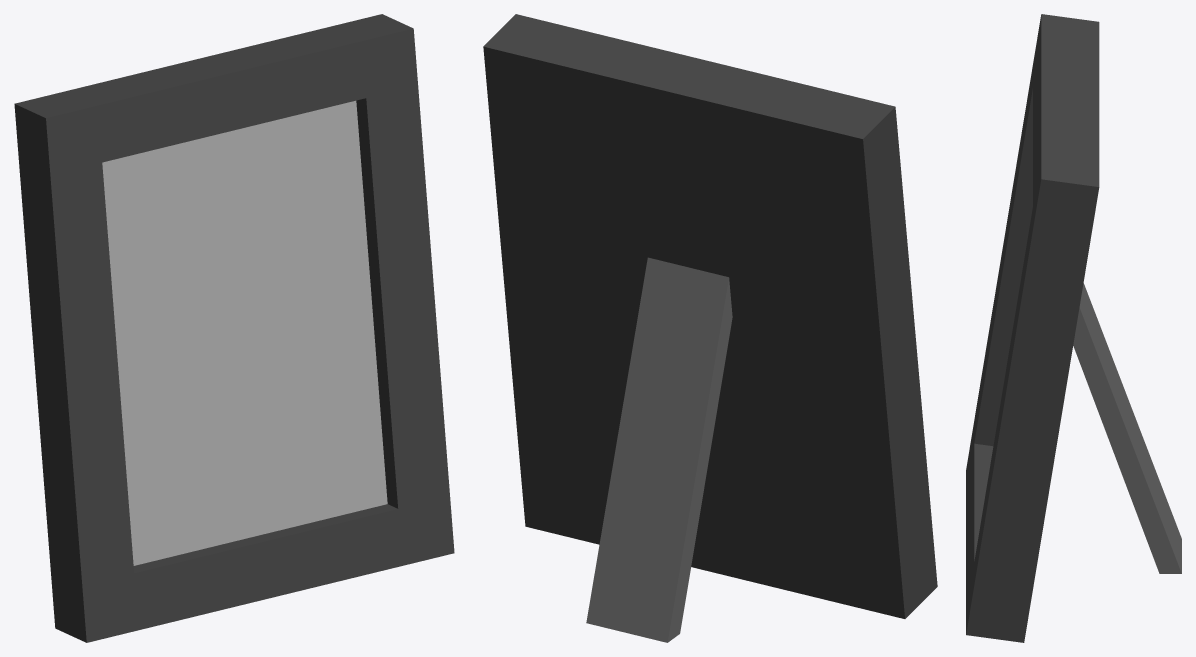
The model's file is Frame_01.fbx.
3 views of the same model, side by side, from view 1: azimuth 30°, elevation 25°; view 2: azimuth 150°, elevation 25°; view 3: azimuth 270°, elevation 25° (orthographic). The views are drawn at different scales.
Parts seen in each view (by area): view 1: Frame_01; view 2: Frame_01; view 3: Frame_01.
Boxes of the visible parts, x1,y1,x2,y2 form: Frame_01: (14, 14, 454, 642); Frame_01: (483, 14, 937, 642); Frame_01: (966, 14, 1181, 642).
Size of the model in its own units: 10 by 13.08 by 5.51.
